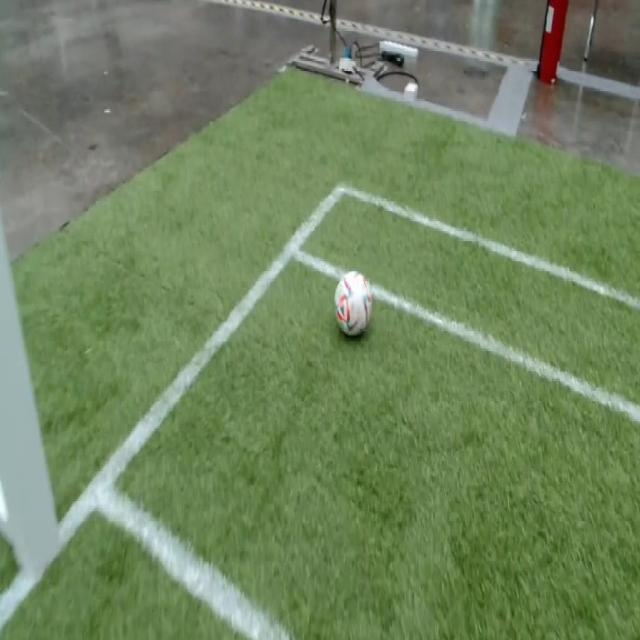ball: (337, 270, 372, 337)
goalpost: (0, 443, 68, 584)
